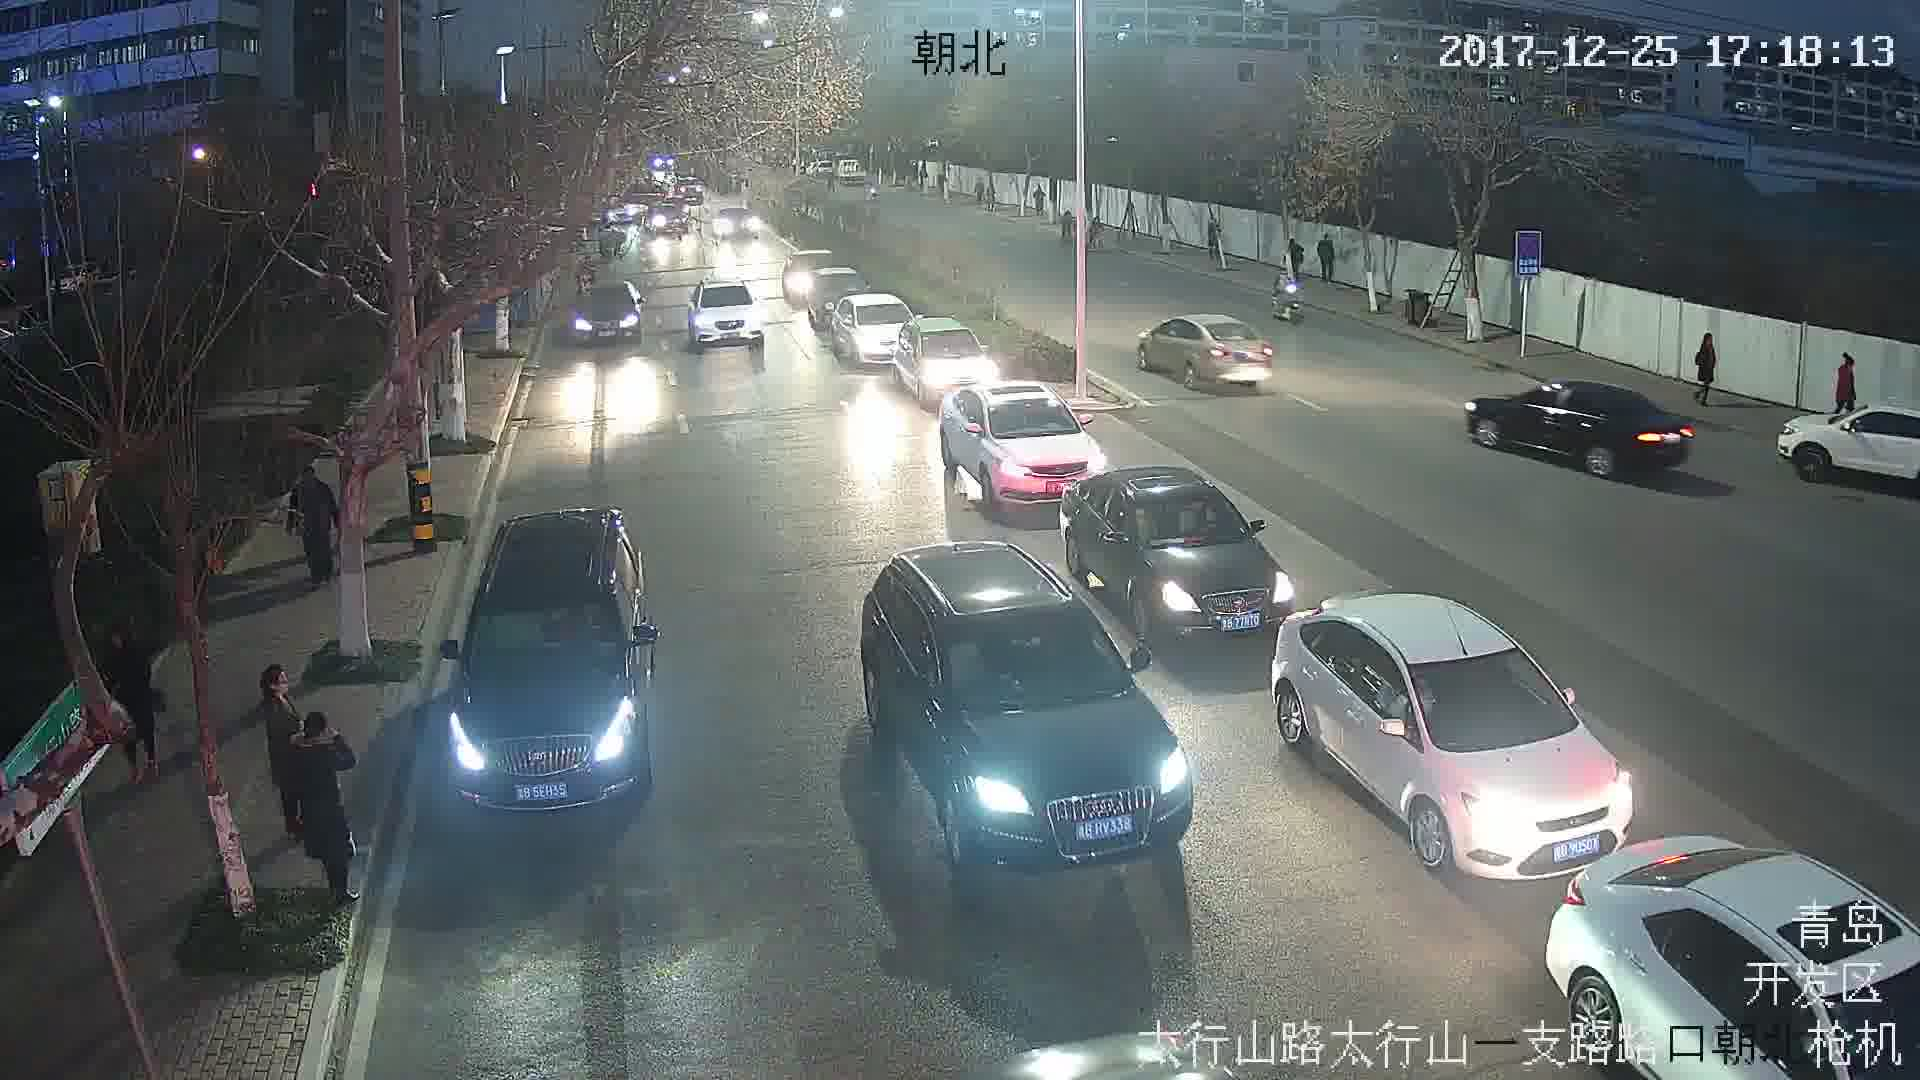car: (860, 544, 1196, 860), (1278, 595, 1632, 866), (439, 510, 656, 819), (1463, 381, 1692, 475), (939, 385, 1105, 505), (1137, 314, 1274, 392), (682, 275, 760, 350), (571, 284, 645, 341)
person: (296, 723, 363, 910), (257, 663, 307, 832), (284, 466, 339, 591), (1692, 332, 1724, 405), (1830, 352, 1856, 413)
